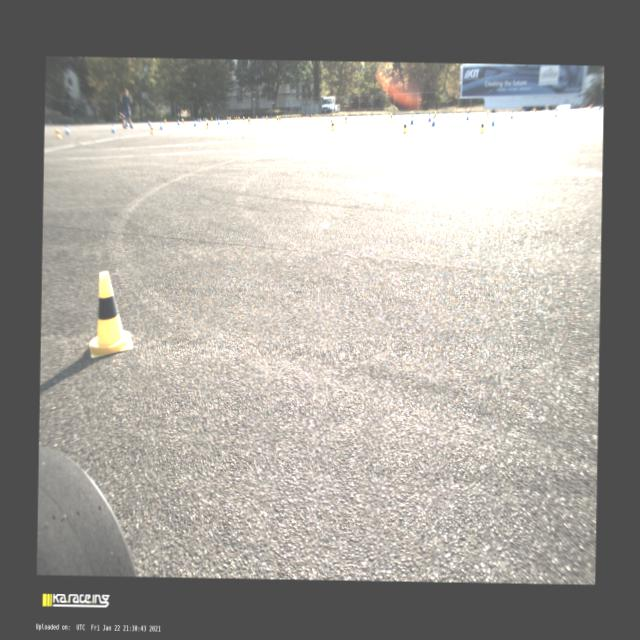blue_cone: (110, 124, 116, 134), (430, 115, 435, 126), (490, 115, 494, 126), (409, 114, 413, 125), (159, 121, 164, 129), (67, 126, 71, 135), (510, 110, 513, 120), (193, 120, 197, 126), (225, 118, 229, 124), (198, 118, 202, 123), (284, 114, 288, 119), (466, 110, 468, 120), (428, 112, 430, 121), (177, 120, 180, 126), (217, 118, 220, 124), (326, 112, 329, 118), (338, 112, 340, 118), (365, 112, 367, 118), (401, 111, 403, 116), (347, 113, 349, 117)
yellow_cone: (88, 272, 134, 358), (402, 121, 407, 133), (150, 124, 156, 134), (479, 121, 483, 134), (343, 113, 348, 123), (56, 130, 62, 138), (331, 120, 334, 130), (389, 110, 392, 120), (181, 118, 184, 125), (210, 117, 213, 124), (434, 110, 436, 120), (265, 116, 268, 122), (486, 109, 488, 118), (248, 116, 250, 124), (206, 120, 208, 128), (255, 115, 258, 120), (233, 116, 236, 121), (276, 115, 278, 122), (278, 115, 280, 122), (164, 118, 166, 125), (242, 116, 244, 122), (332, 112, 334, 118), (405, 110, 407, 116), (310, 114, 312, 119), (297, 114, 299, 118)
